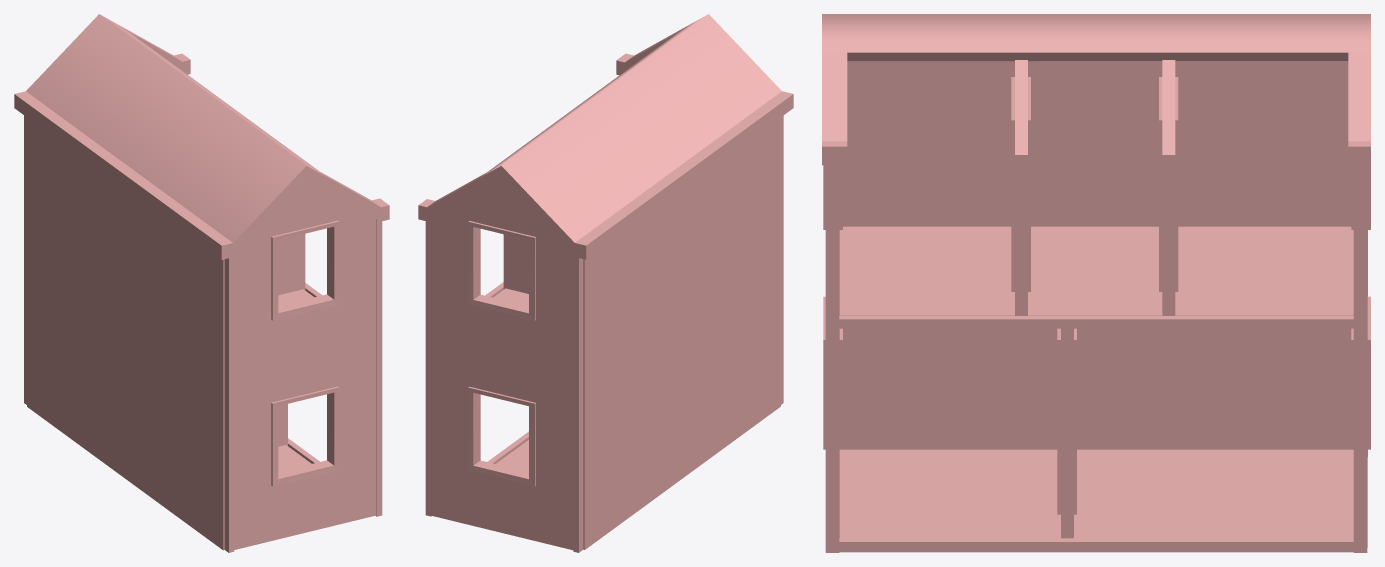
3 views of the same model, side by side, from view 1: azimuth 30°, elevation 25°; view 2: azimuth 150°, elevation 25°; view 3: azimuth 270°, elevation 25° (orthographic). The views are drawn at different scales.
Visible parts, largest first — view 1: Object_2; view 2: Object_2; view 3: Object_2.
Part boxes in pixels (x1,y1,x2,y2): Object_2: (14,14,389,552); Object_2: (418,14,793,552); Object_2: (822,14,1370,552).
Bounding box in the file's own units: 3.47 × 7.31 × 7.43.
